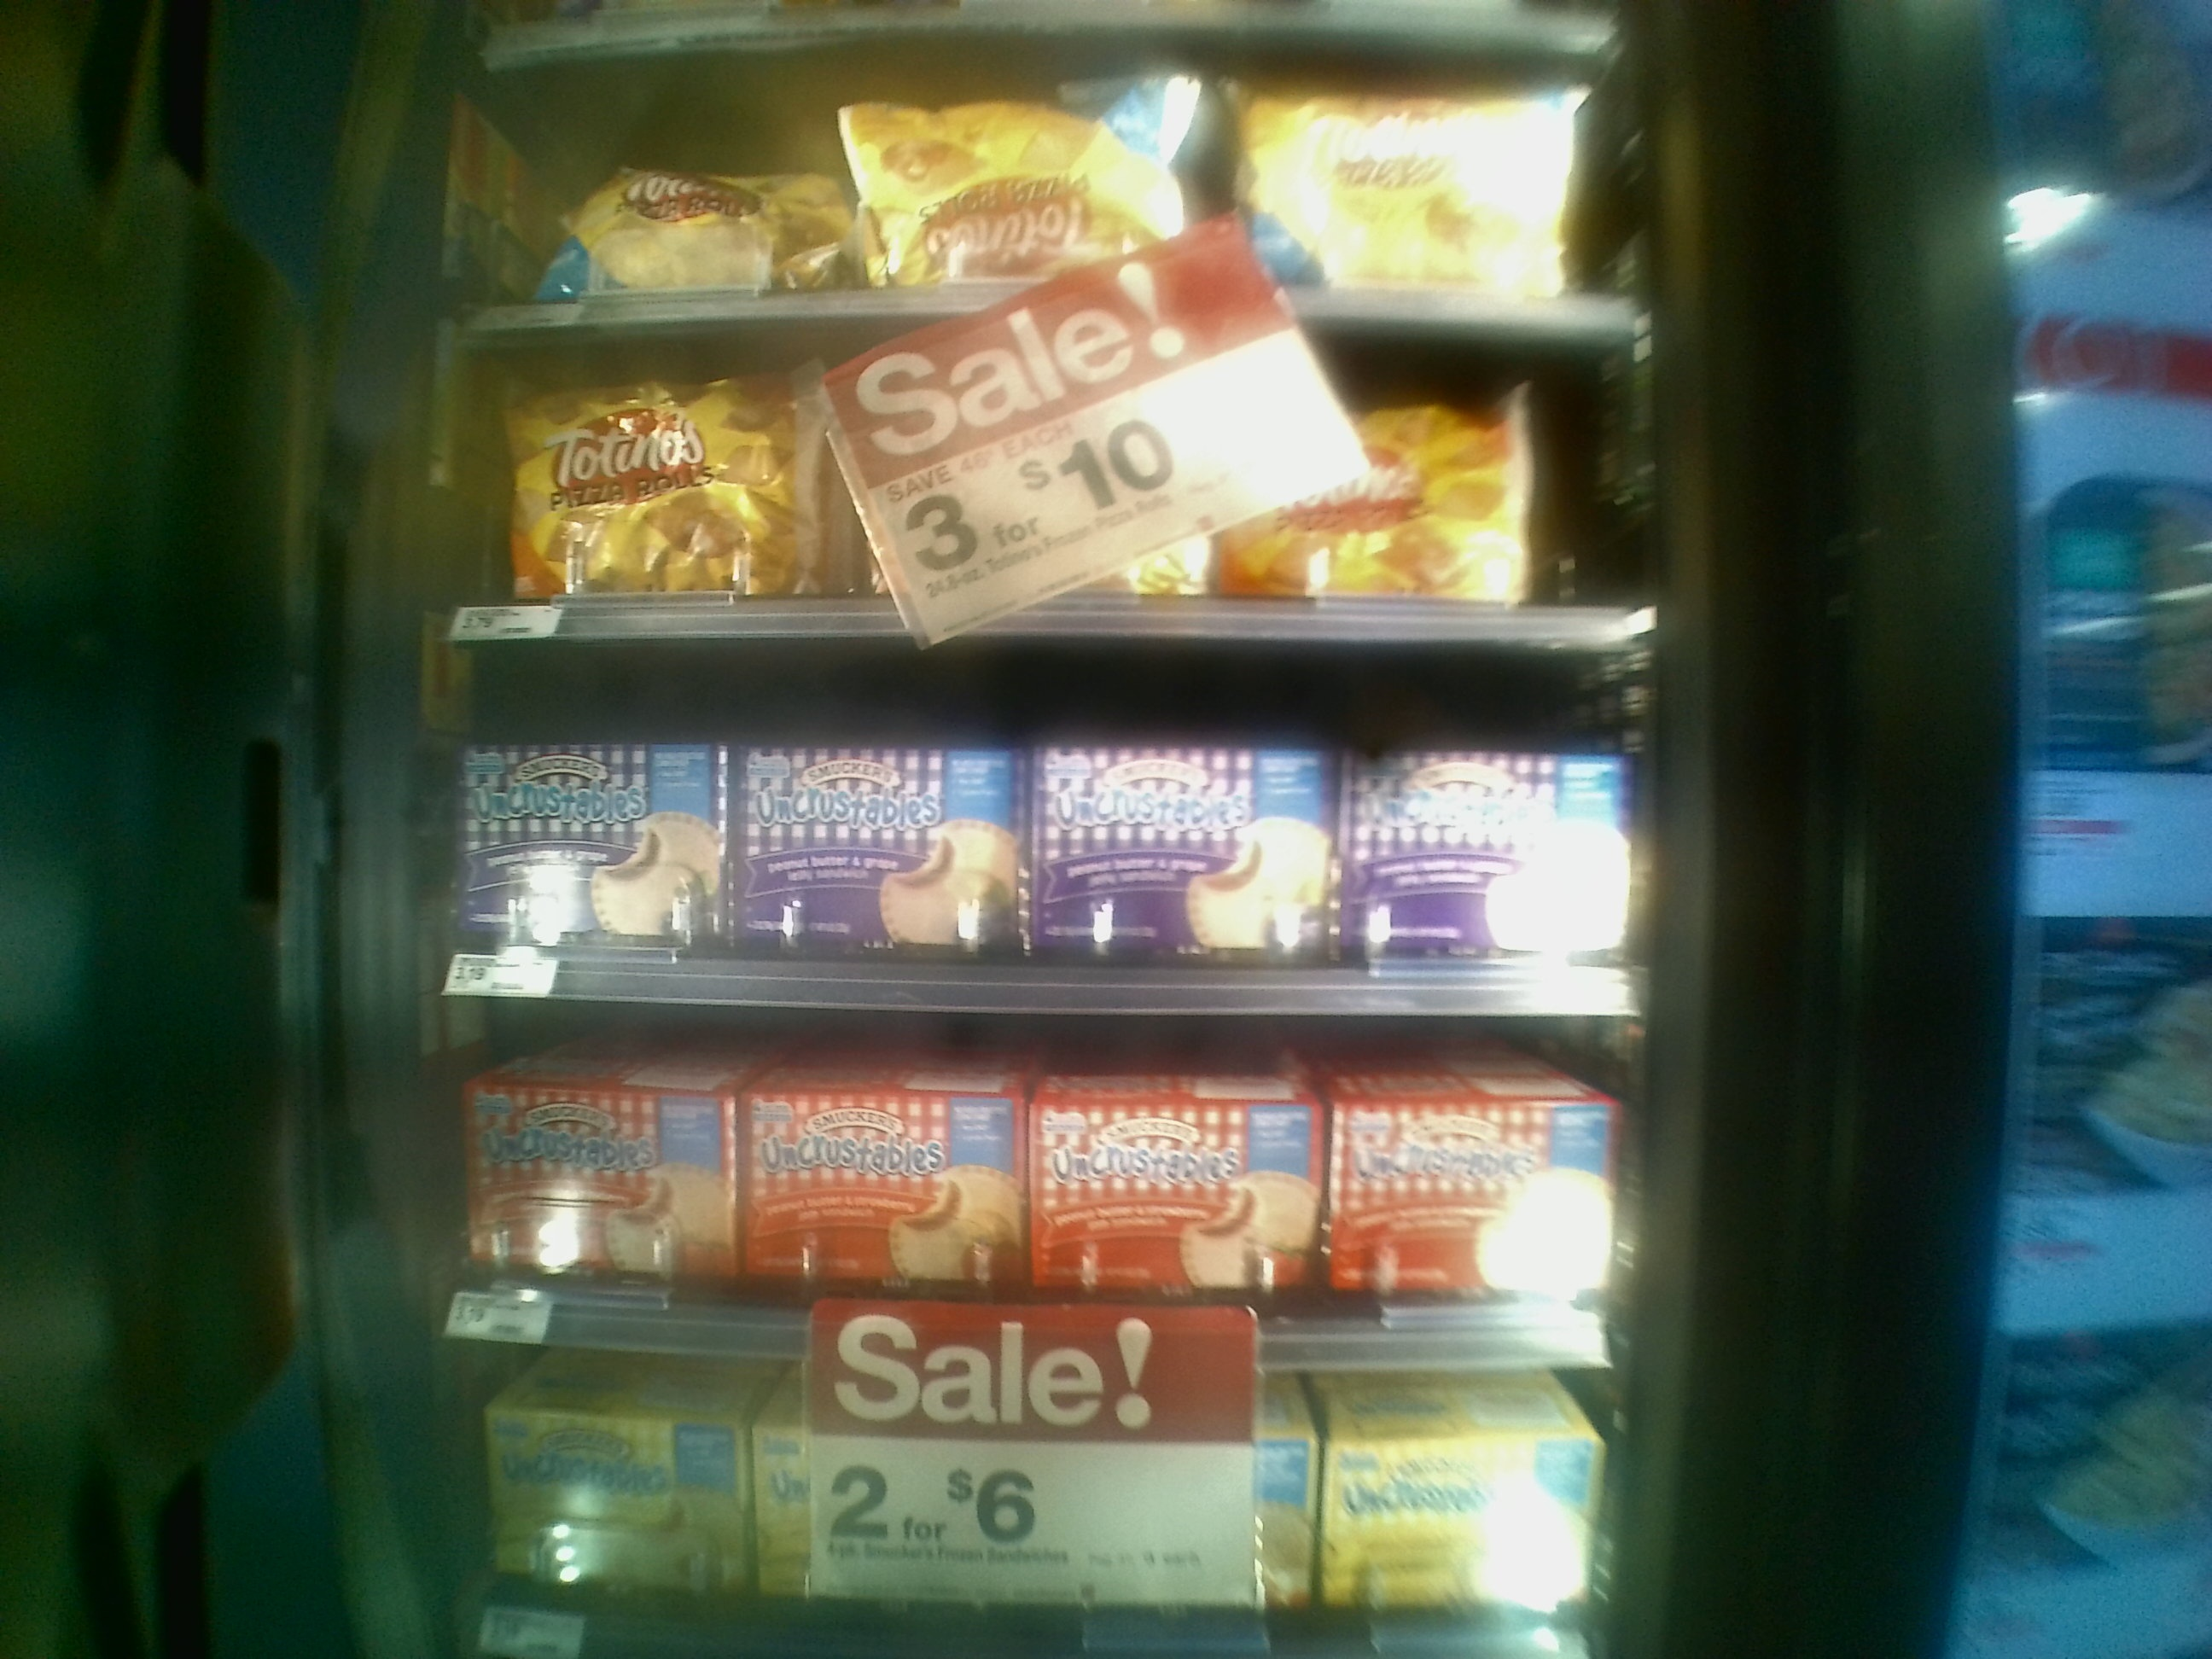shelf: (404, 662, 1646, 1025), (402, 1009, 1625, 1373), (427, 333, 1656, 667), (460, 44, 1674, 343)
